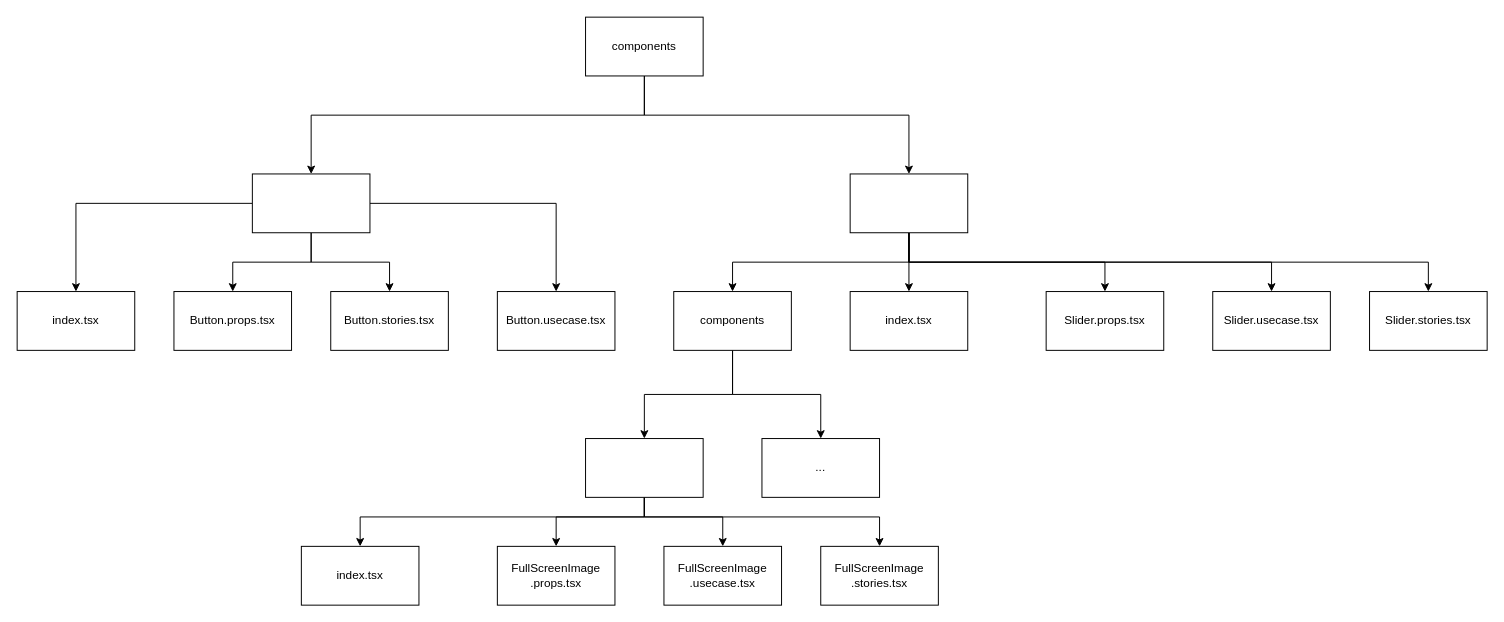
Some shapes in this 1504 by 622 pixel diagram are drawn without their labels. The centre of each missing label's shape, as x and y in pixels:
Button: the point at 310,203
FullScreenImage: the point at 644,467
Slider: the point at 908,203
